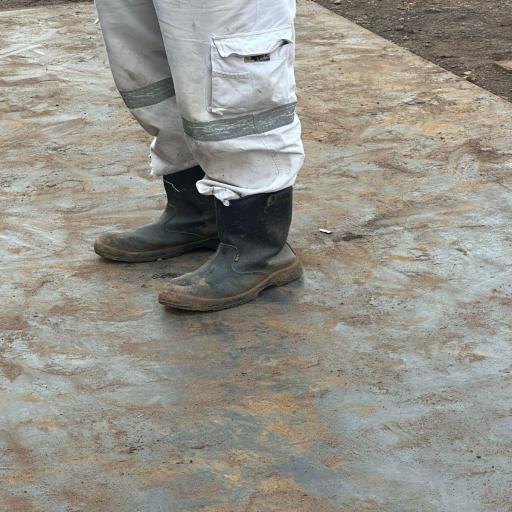safety_shoe: (155, 189, 309, 313), (88, 166, 232, 264)
